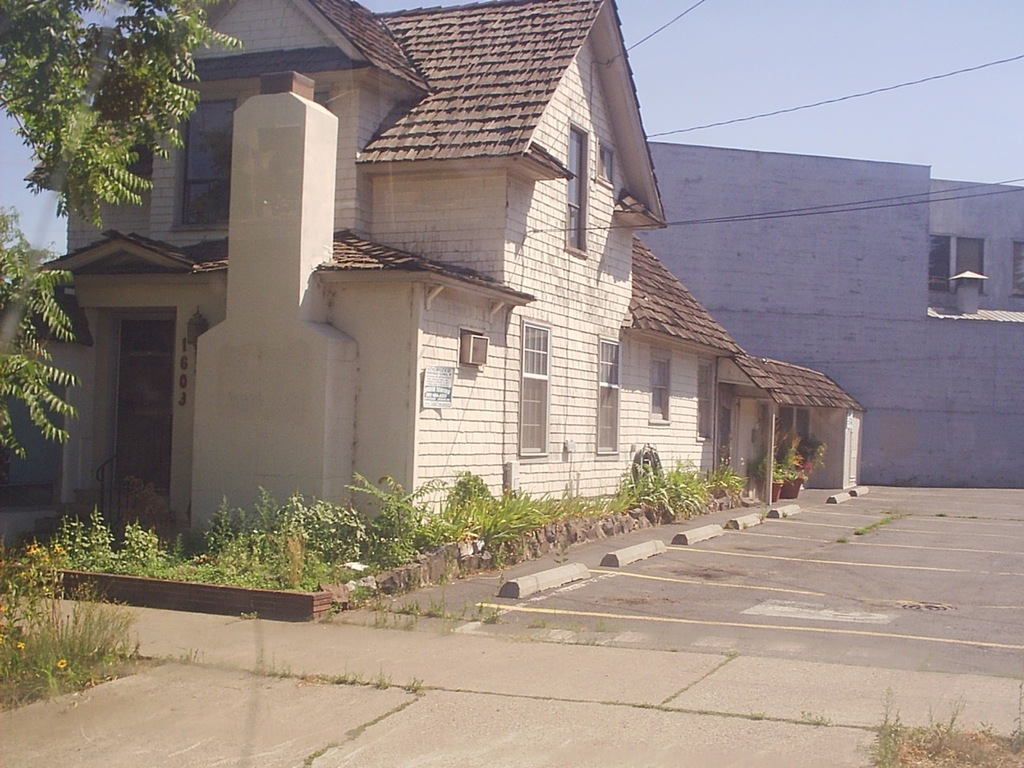Window: (173, 93, 243, 229), (516, 319, 553, 461), (594, 339, 618, 463), (567, 125, 585, 258), (695, 362, 718, 437), (954, 235, 983, 293), (650, 355, 674, 422), (779, 406, 810, 454), (929, 234, 954, 293), (594, 141, 619, 189), (1009, 239, 1023, 299)
